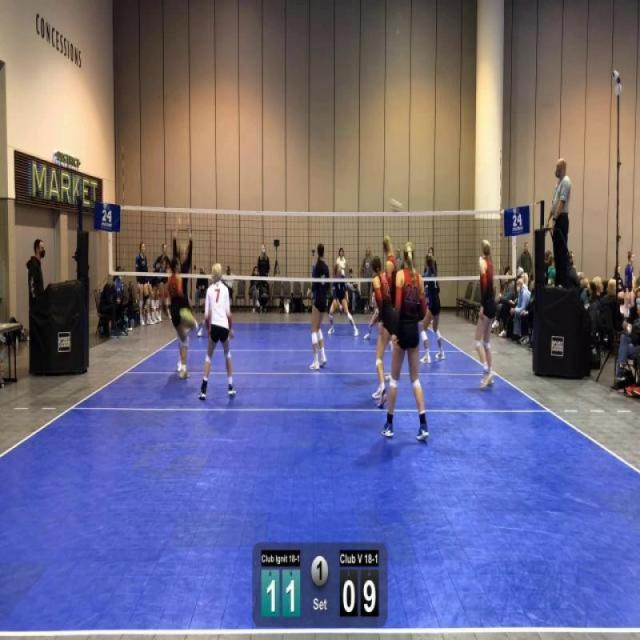volleyball: (388, 196, 404, 213)
